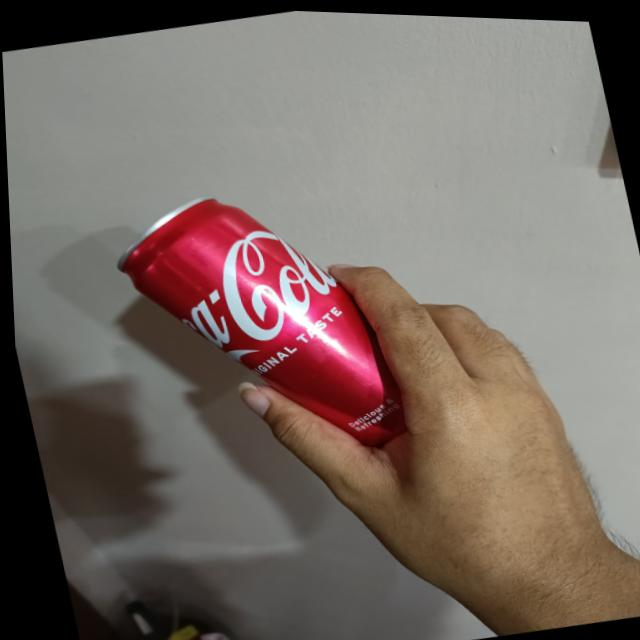coke: (102, 158, 429, 492)
